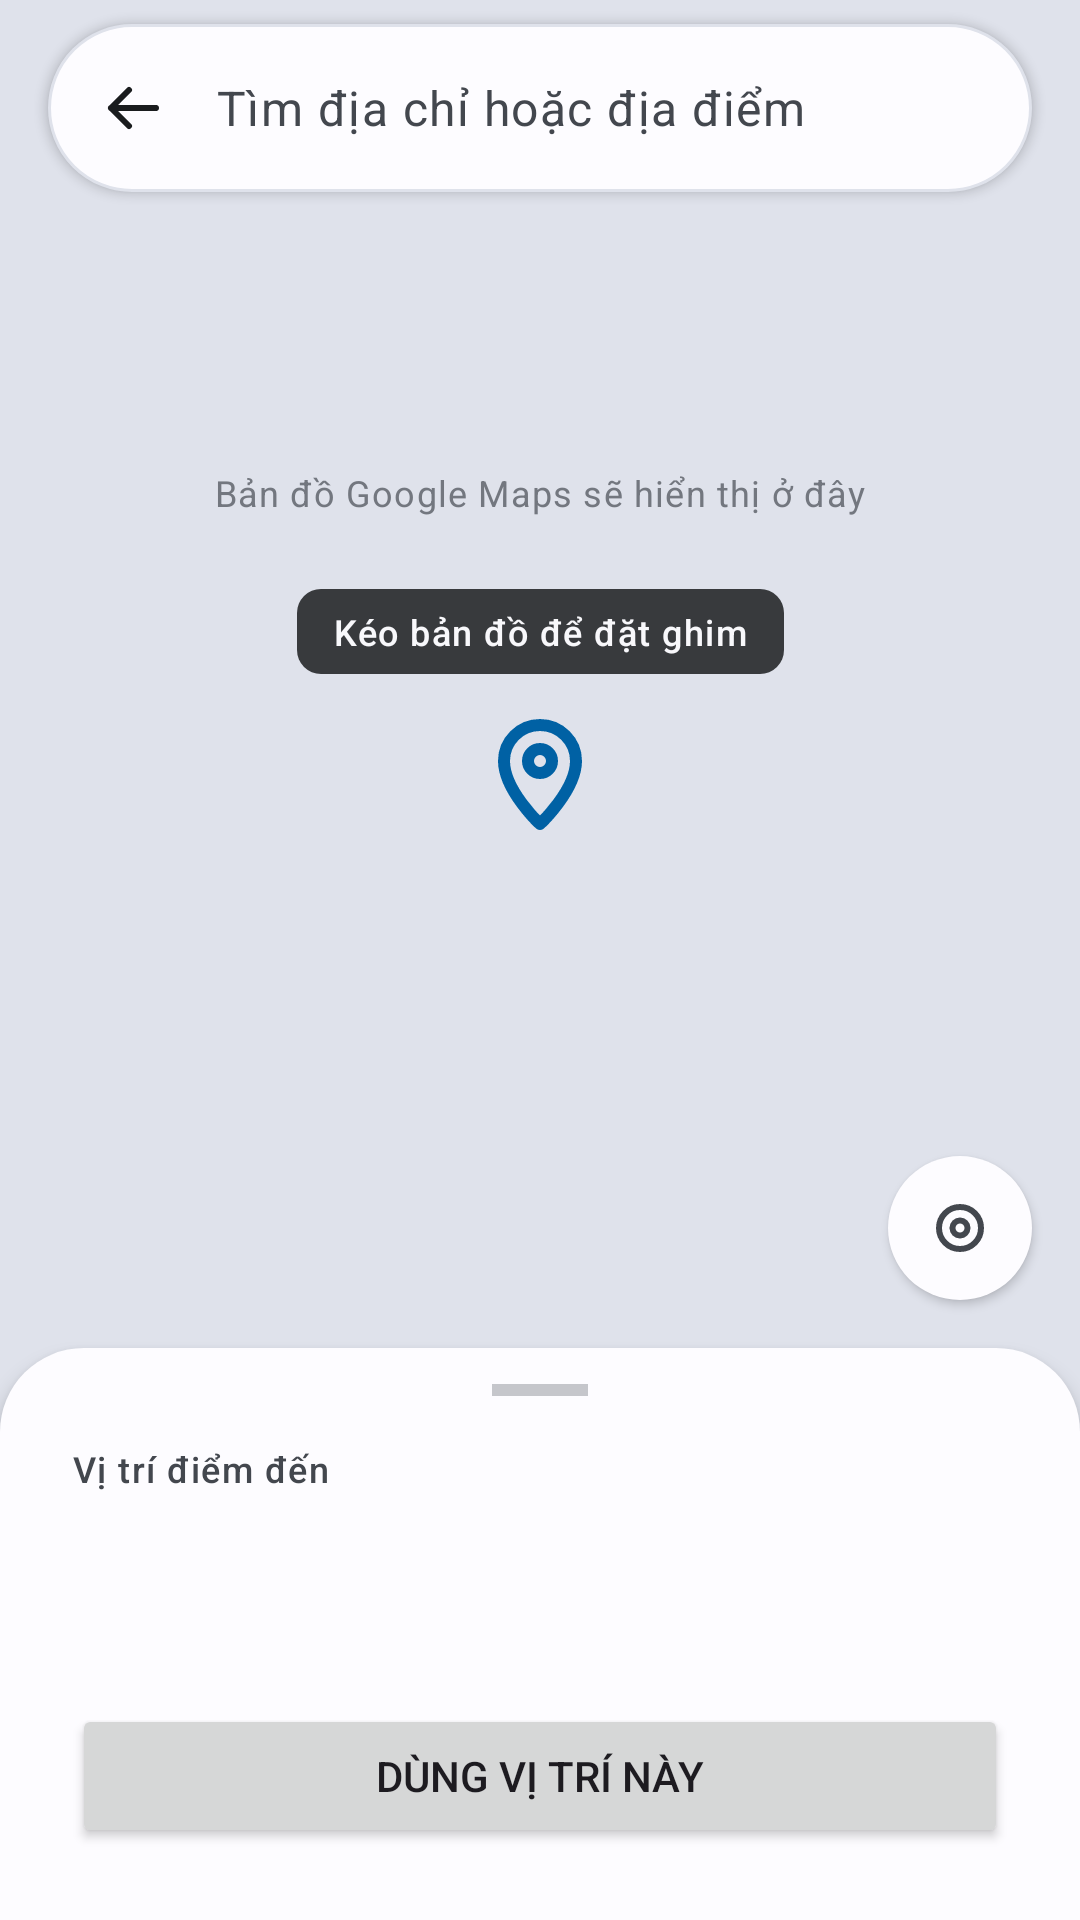

Named icons in this screenshot (1080 × 1920) and their centers, point (x, y):
Ghim vị trí: point (540, 774)
Quay lại: point (109, 108)
Về vị trí của tôi: point (960, 1228)
